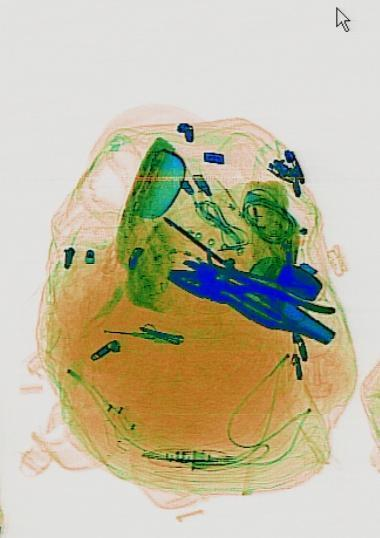Pliers: (164, 250, 335, 348)
